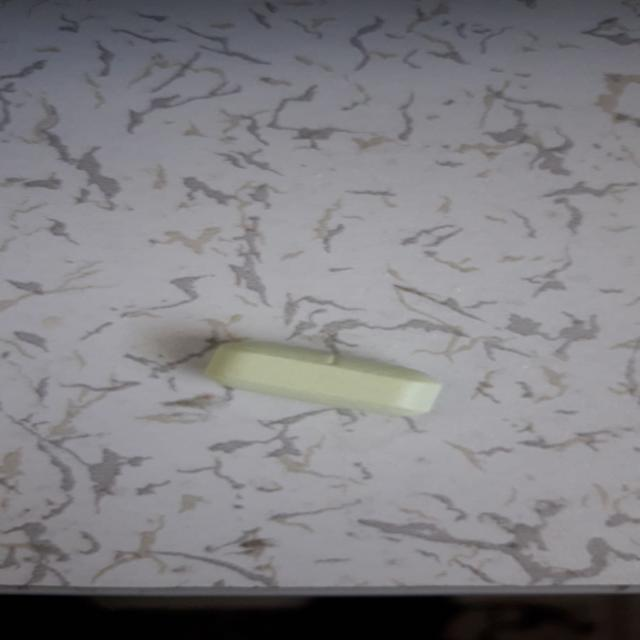pills: (181, 324, 469, 425)
